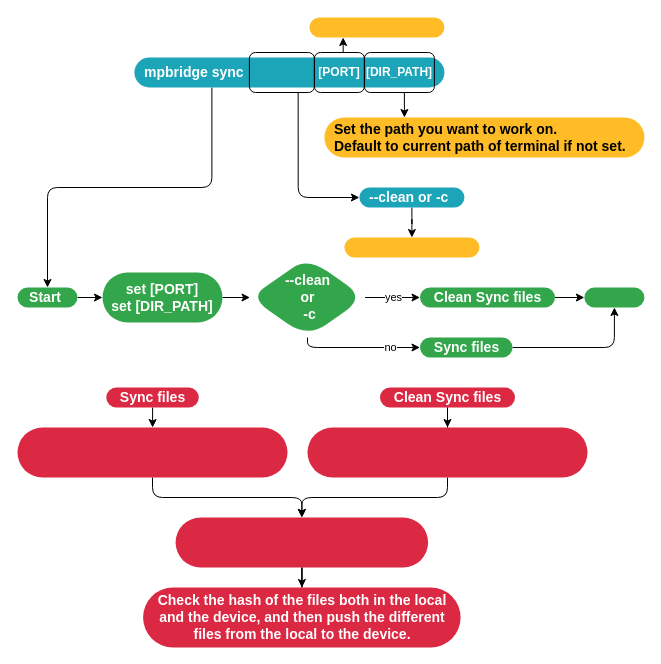
The diagram is 661 pixels wide and 664 high, and some of its shapes have lost their labels. The shapes that lost their labels are listed below. From the top down, each one's centre as x and y in pixels, then its label:
At (376,27): "Port must be set.".
At (281,72): "[OPTIONS]".
At (411,247): "Clean Sync files.".
At (614,297): "Exit".
At (152,452): "Pull the files that are not in the local but exist in the device to the local.".
At (447,452): "Delete files from the device that do not exist locally but exist on the device".
At (301,542): "Push files that are not in the device but exist locally to the device.".
